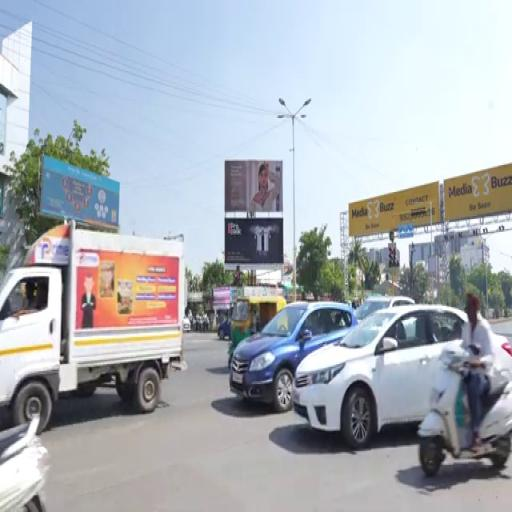Car: (294, 305, 467, 450), (229, 302, 357, 412), (355, 296, 415, 321), (218, 319, 231, 339), (183, 316, 191, 332)
